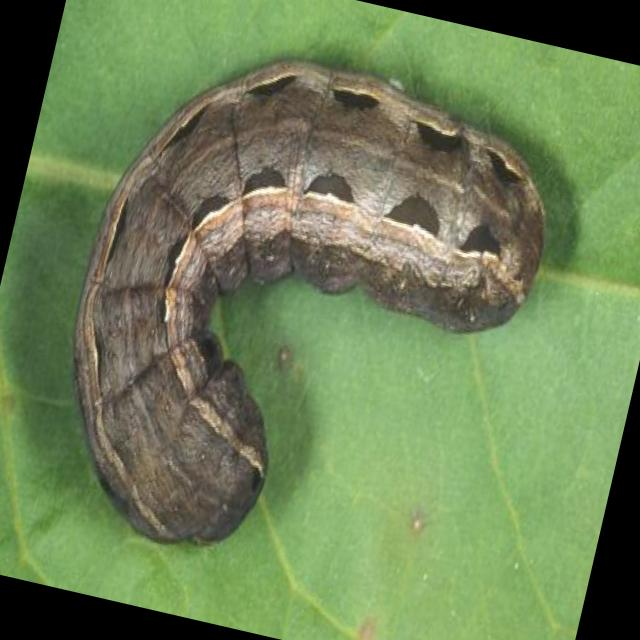armyworm: (17, 9, 585, 626)
